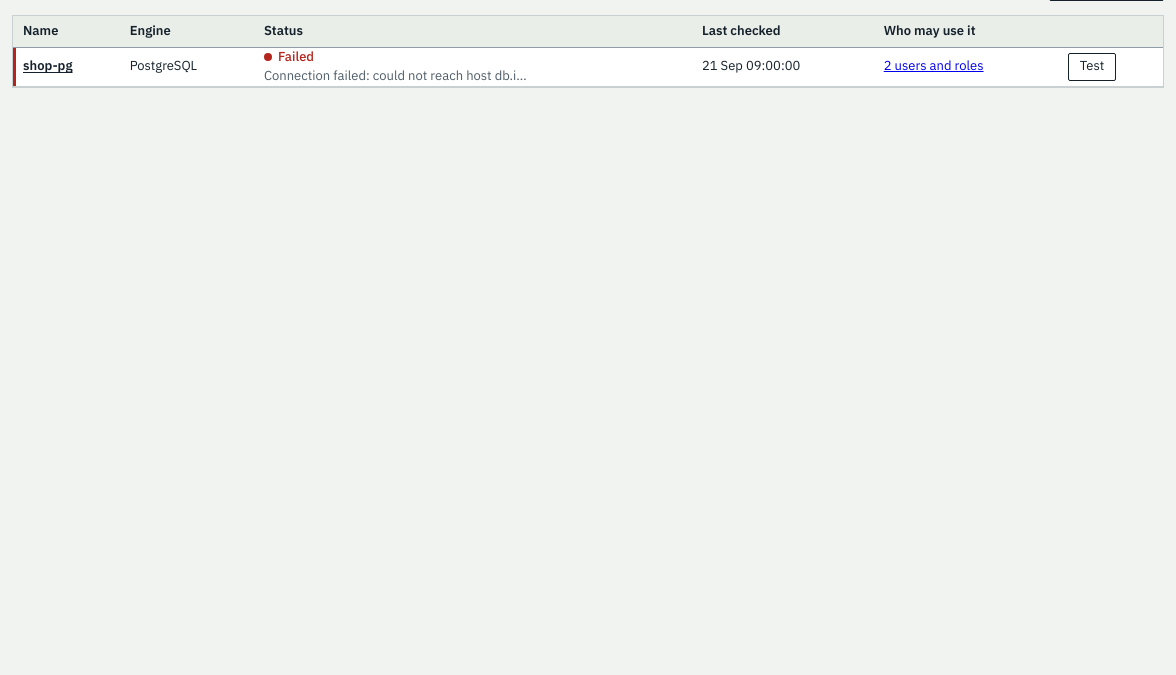
Test case: connection manager › reports a failed test in the interface's own words
The width and height of the screenshot is (1176, 675).
Click the button "shop-pg".
click(48, 67)  # box [23,57,72,76]
(page scrolled)
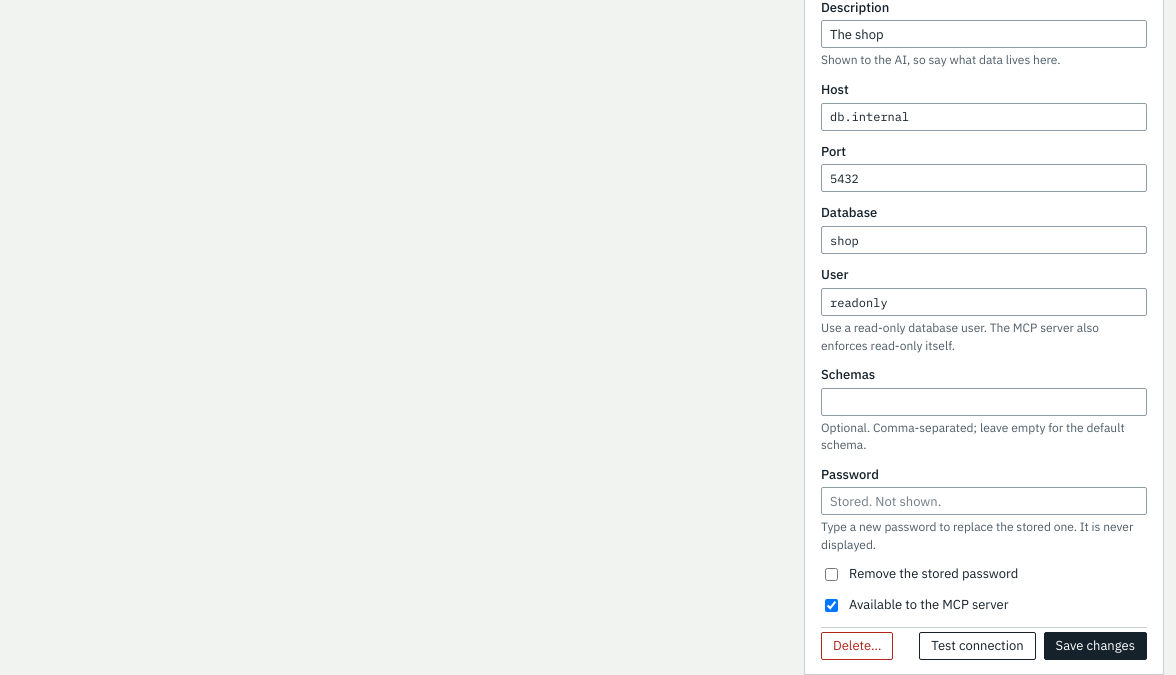
Click the button "Test connection".
click(977, 646)  # box [919,632,1036,660]
(page scrolled)
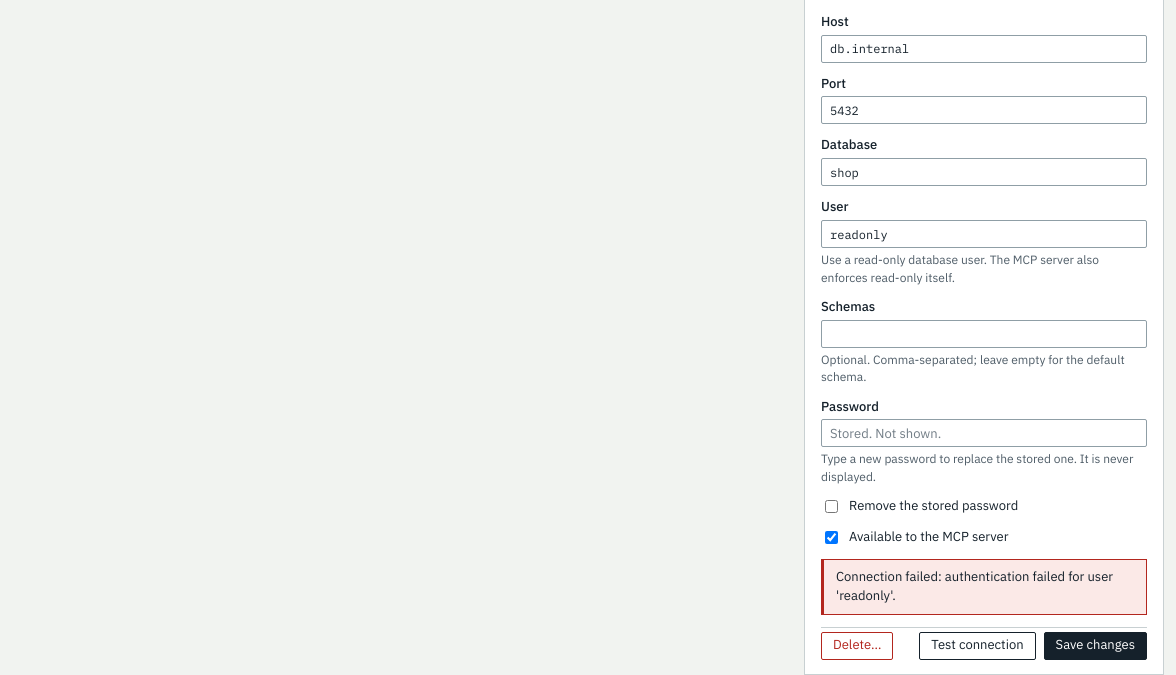
Now the text "Connection failed: authentication failed for user 'readonly'." is shown, box [821,559,1147,615]
